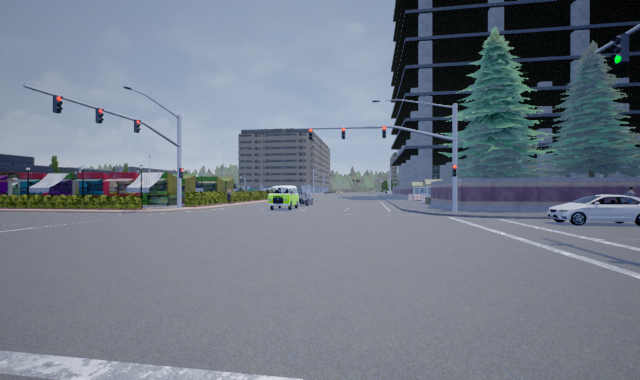pedestrian: (620, 184, 639, 215), (224, 186, 233, 204)
vehicle: (547, 194, 639, 226), (266, 185, 301, 209), (294, 192, 314, 205)
